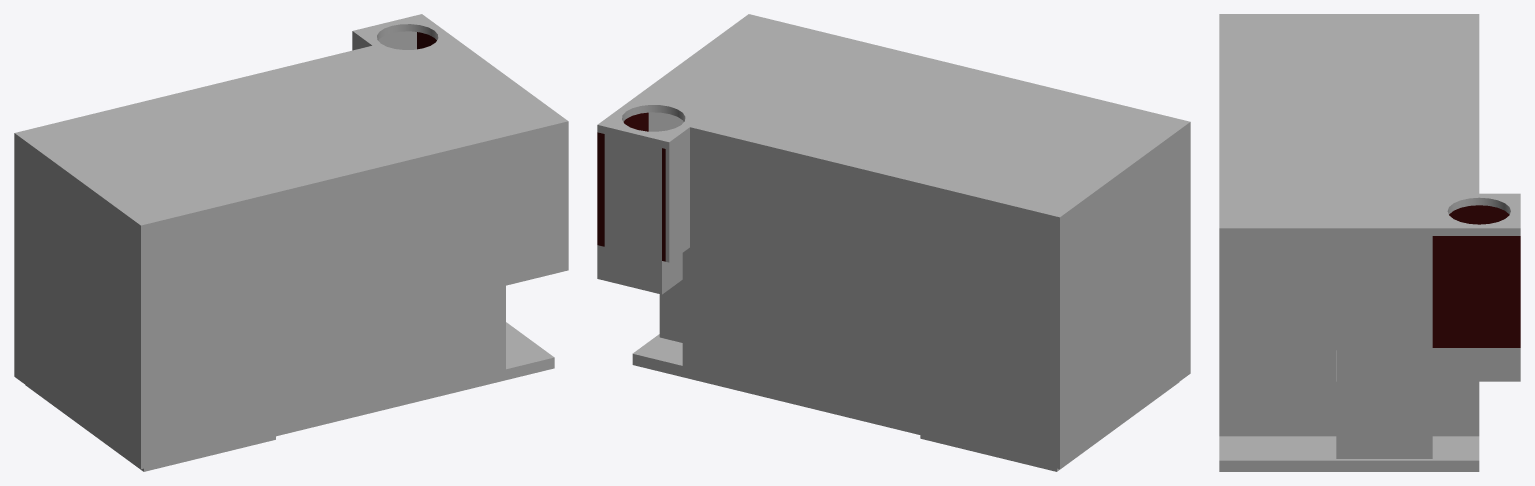
The model's file is Underground.fbx.
3 views of the same model, side by side, from view 1: azimuth 30°, elevation 25°; view 2: azimuth 150°, elevation 25°; view 3: azimuth 270°, elevation 25° (orthographic). The views are drawn at different scales.
Visible parts, largest first — view 1: Box25, Box24, Box22, Box13, Box3, Box18, Box, Box11, Box14, Box4, Box21, Box16; view 2: Box25, Box24, Box23, Box2, Box20, Box18, Box16, Box, Box12, Box278, Box270, Box4 (+2 smaller); view 3: Box25, Box14, Box18, Box270, Box4, Box, Box9, Box11, Box15, Box12, Box269, Box10.
Part boxes in pixels (box(x1,y1,x2,y2)): Box25: box(14, 45, 498, 232); Box24: box(14, 140, 147, 469); Box22: box(148, 199, 279, 467); Box13: box(280, 130, 561, 307); Box3: box(280, 254, 498, 424); Box18: box(352, 14, 568, 145); Box: box(280, 322, 554, 435); Box11: box(506, 237, 568, 285); Box14: box(561, 128, 568, 238); Box4: box(499, 253, 505, 370); Box21: box(25, 385, 275, 471); Box16: box(378, 31, 416, 49); Box25: box(690, 31, 1190, 224); Box24: box(1052, 129, 1190, 468); Box23: box(916, 190, 1052, 467); Box2: box(690, 247, 916, 422); Box20: box(690, 134, 916, 302); Box18: box(597, 14, 820, 149); Box16: box(604, 134, 661, 260); Box: box(632, 334, 916, 433); Box12: box(597, 245, 682, 294); Box278: box(665, 135, 689, 262); Box270: box(597, 112, 648, 246); Box4: box(682, 247, 689, 367); Box25: box(1219, 14, 1479, 193); Box14: box(1219, 236, 1432, 347); Box18: box(1219, 193, 1520, 235); Box270: box(1432, 236, 1520, 347); Box4: box(1219, 348, 1479, 436); Box: box(1219, 436, 1479, 471); Box9: box(1336, 385, 1432, 458); Box11: box(1219, 348, 1336, 381); Box15: box(1336, 344, 1432, 381); Box12: box(1432, 348, 1520, 381); Box269: box(1449, 205, 1509, 224); Box10: box(1336, 350, 1432, 385).
Bounding box in the file's own units: 1230 × 730 × 690.
